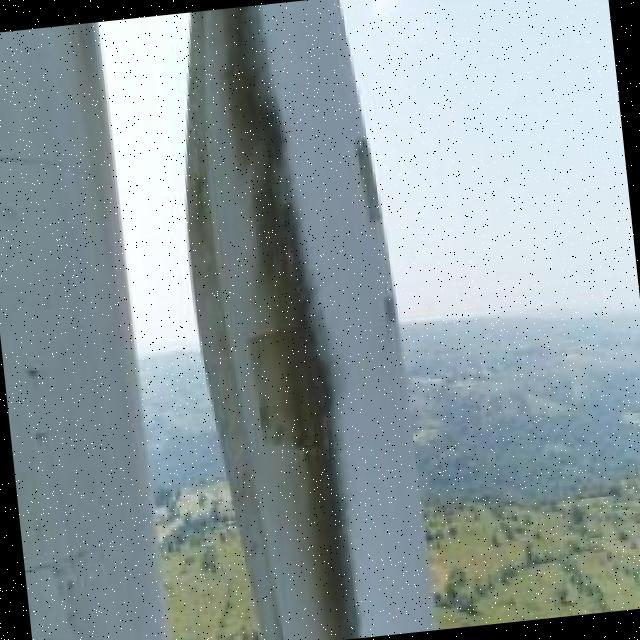Dirt: (181, 2, 359, 640)
